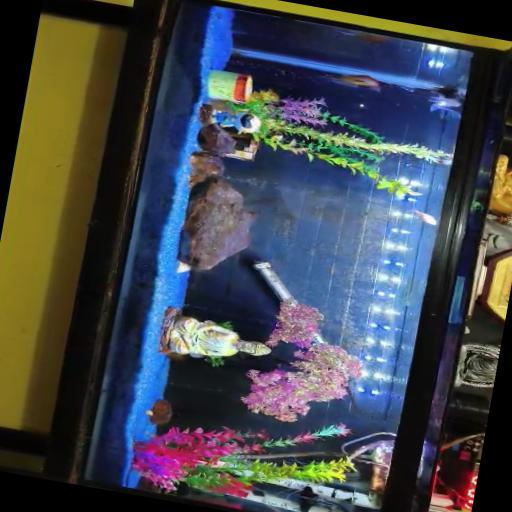Fish: (326, 74, 381, 92), (428, 93, 460, 118), (339, 29, 388, 42), (412, 210, 436, 225)
